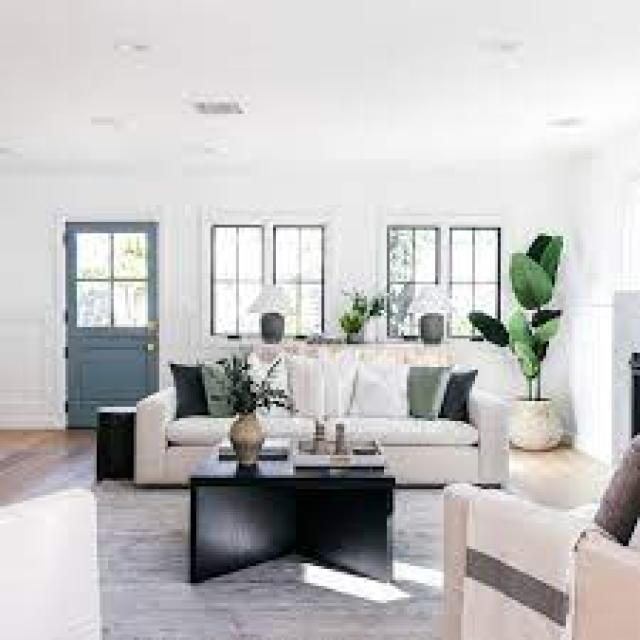Chair: (446, 429, 640, 640)
Lamp: (250, 279, 294, 338), (416, 280, 452, 337)
Sofa: (126, 347, 520, 488)
Table: (191, 430, 397, 589)
